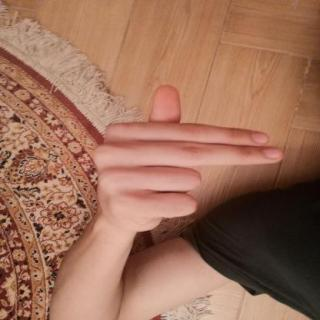GHAYN: (80, 76, 298, 242)
